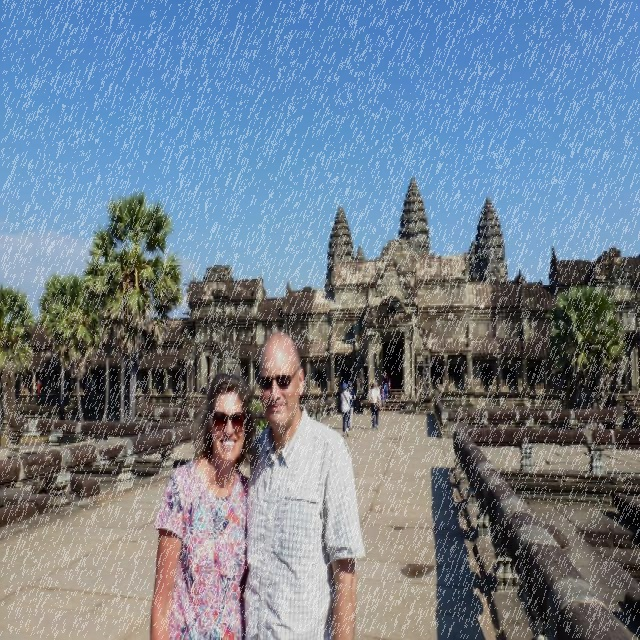pessoa: (242, 326, 368, 638), (147, 368, 250, 638), (338, 381, 354, 439), (367, 381, 380, 431), (374, 371, 390, 408), (347, 380, 357, 430), (32, 375, 42, 397)
